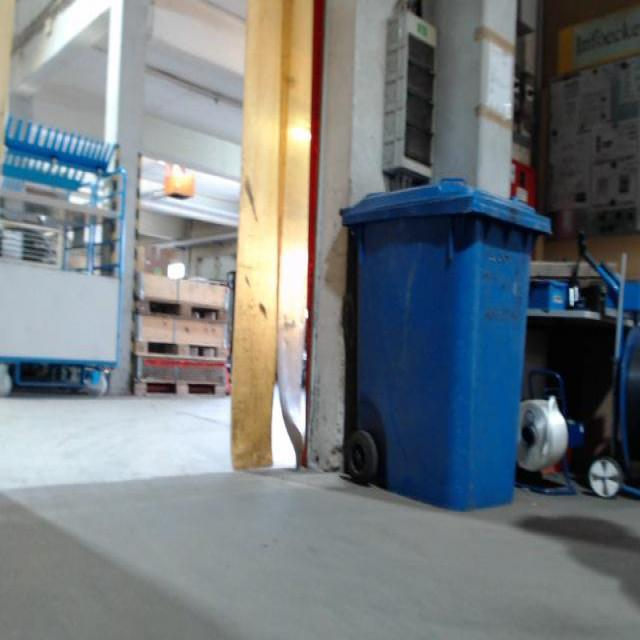pallet: (136, 295, 225, 325), (134, 337, 228, 362), (130, 377, 226, 399)
pallet_truck: (211, 261, 246, 400)
stillage: (1, 206, 66, 270)
